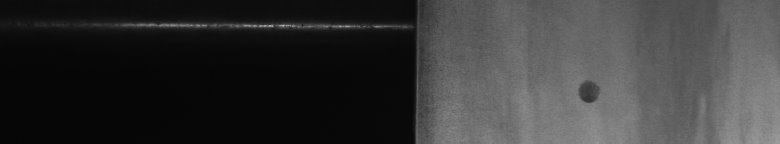fi: (572, 76, 603, 108)
